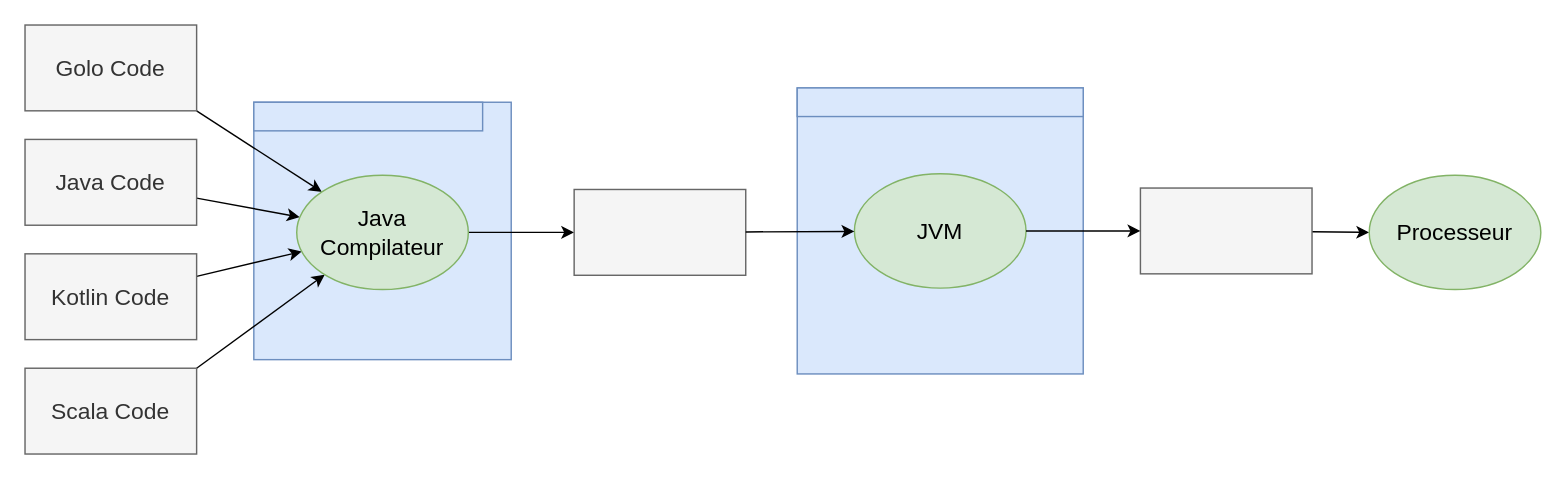
The diagram is 1566 pixels wide and 479 high, and some of its shapes have lost their labels. The centre of each missing label's shape, as x and y in pixels:
"Assembleur" goes at (1225,230).
"Byte Code" goes at (659,231).
"Java Development Kit" goes at (367,116).
"Java Runtime Environment" goes at (939,102).
